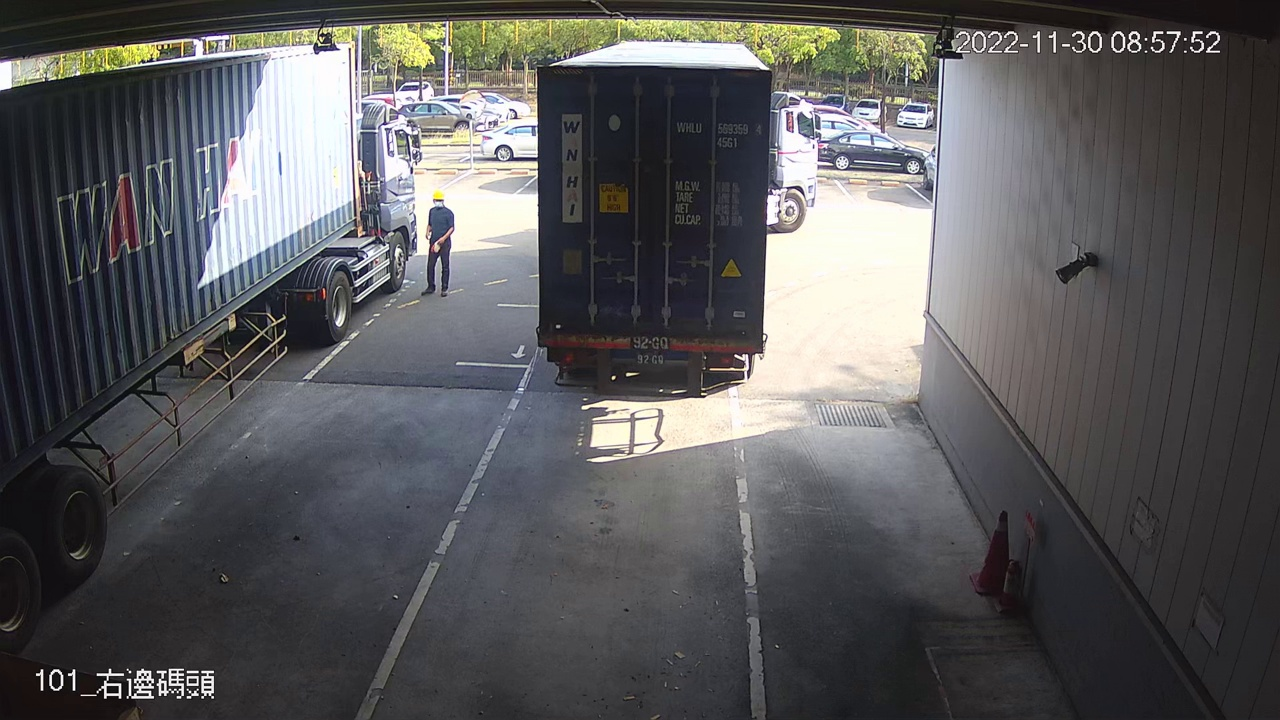container: (673, 116, 765, 154)
